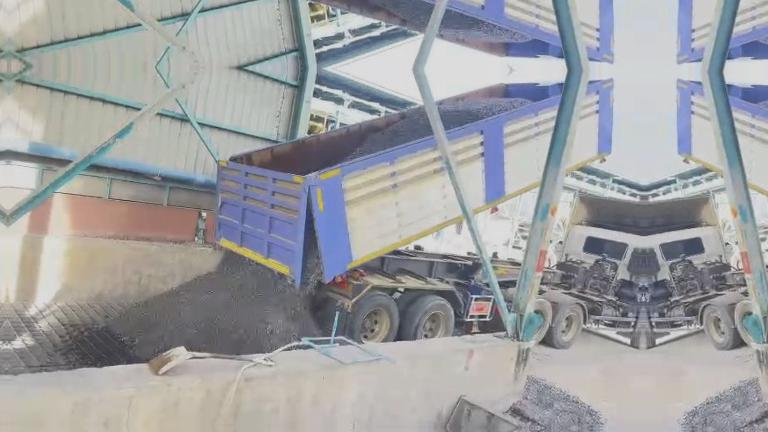gravel: (105, 217, 321, 360), (508, 376, 605, 428), (344, 108, 432, 160), (439, 98, 531, 130)
